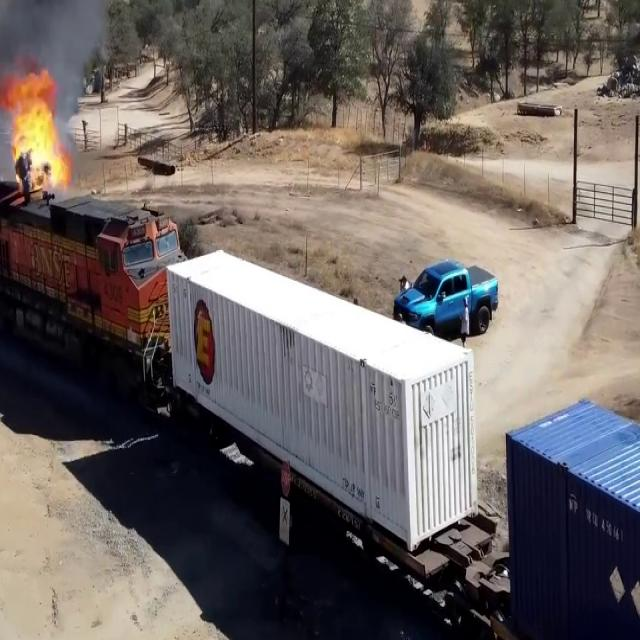fire: (2, 75, 75, 216)
